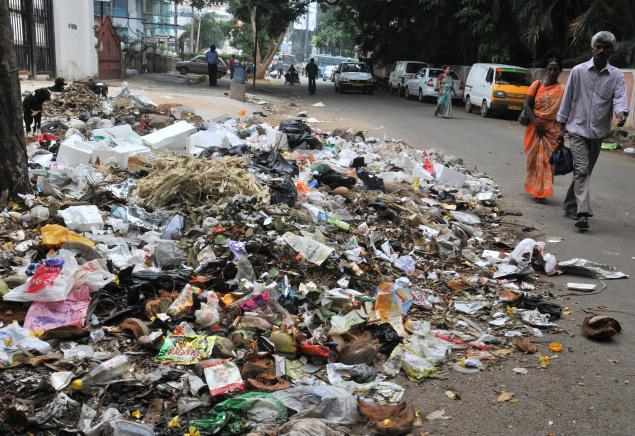Garbage: (111, 187, 420, 436), (136, 164, 449, 364), (10, 202, 208, 436), (373, 149, 460, 204), (75, 93, 123, 116)
